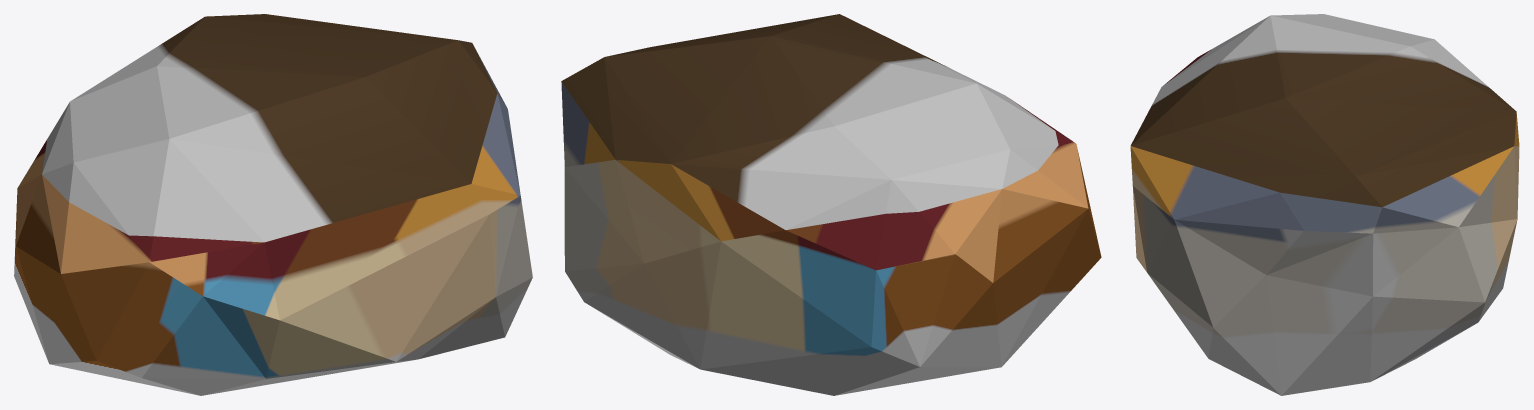
Rendered from Rock_05.fbx.
The picture shows the model from 3 angles, left to right: view 1: azimuth 30°, elevation 25°; view 2: azimuth 150°, elevation 25°; view 3: azimuth 270°, elevation 25°; orthographic projection. The views are drawn at different scales.
Visible parts, largest first — view 1: Rock_05; view 2: Rock_05; view 3: Rock_05.
Part boxes in pixels (x1,y1,x2,y2): Rock_05: [14, 14, 532, 395]; Rock_05: [561, 14, 1101, 395]; Rock_05: [1130, 14, 1519, 395].
Bounding box in the file's own units: 5.93 × 3.35 × 4.77.
